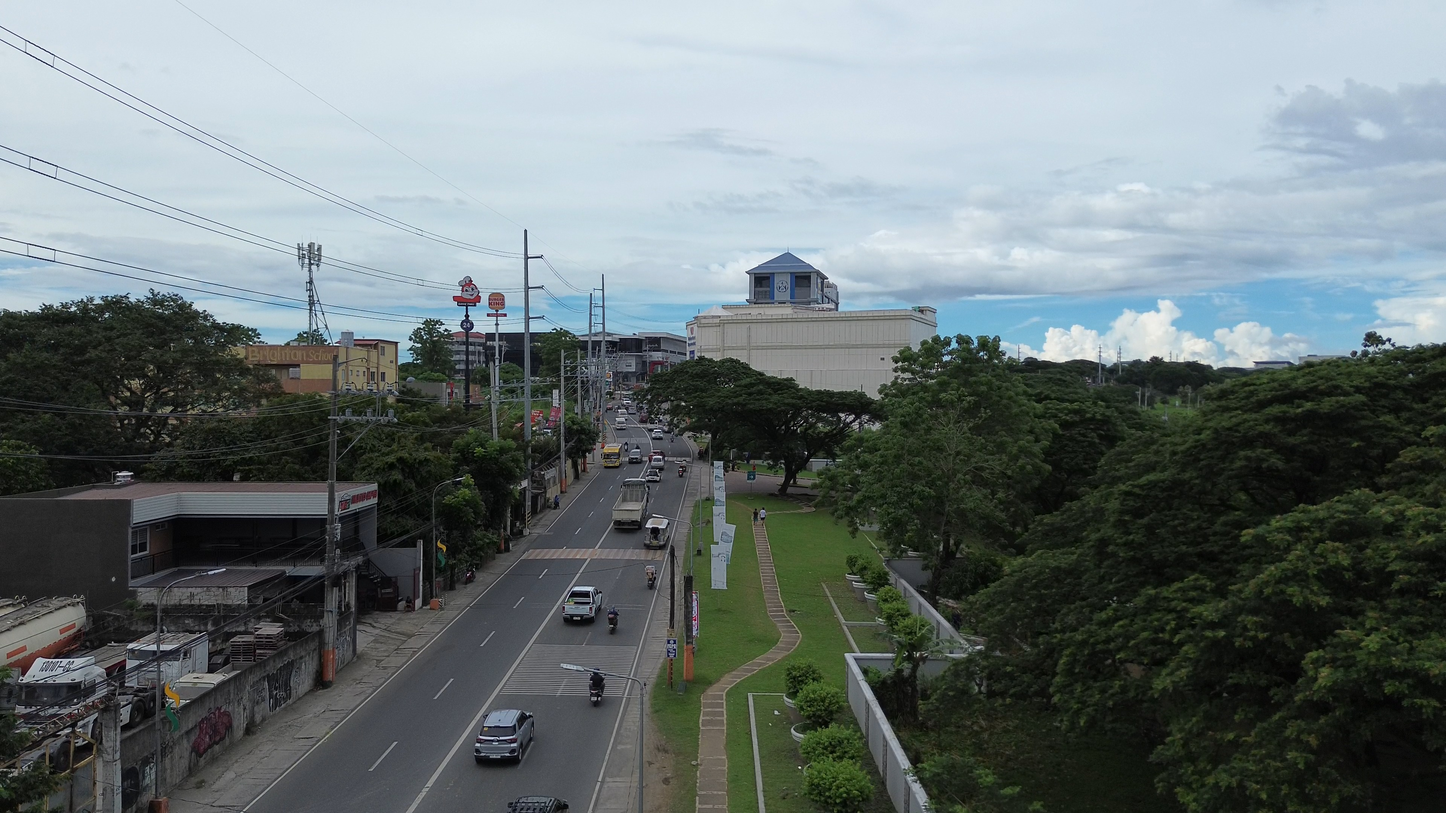bus: (601, 444, 621, 467)
car: (507, 796, 568, 813), (644, 467, 661, 482)
motorcycle: (589, 678, 604, 706), (607, 608, 619, 634), (645, 565, 657, 589), (464, 568, 475, 585), (678, 466, 685, 477)
vehicle: (15, 656, 111, 734), (0, 597, 85, 674), (474, 709, 534, 763), (159, 633, 208, 682), (171, 671, 235, 705), (612, 478, 650, 528), (563, 586, 602, 621), (644, 516, 669, 548), (606, 607, 619, 634), (649, 451, 665, 470), (645, 564, 657, 588), (628, 445, 643, 464), (644, 467, 660, 482), (615, 414, 627, 428), (651, 428, 664, 439), (678, 464, 685, 477)
